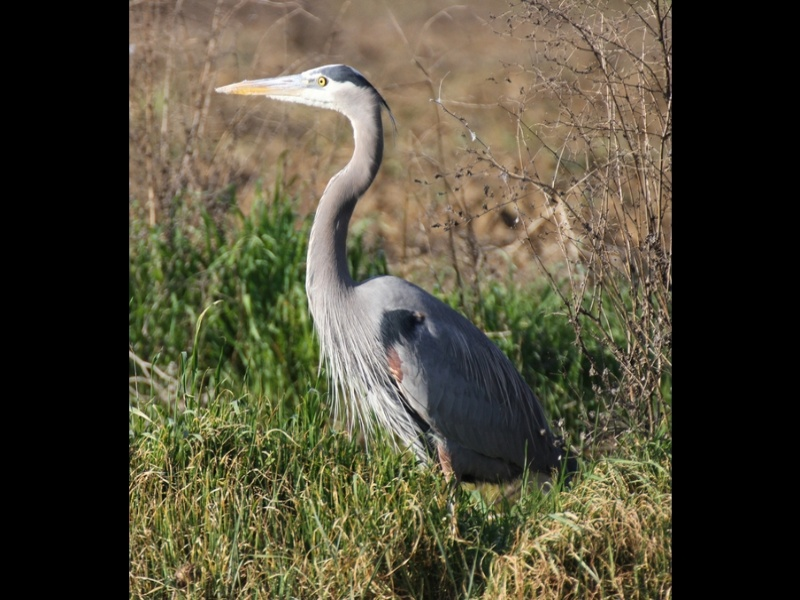heron: (211, 62, 567, 541)
